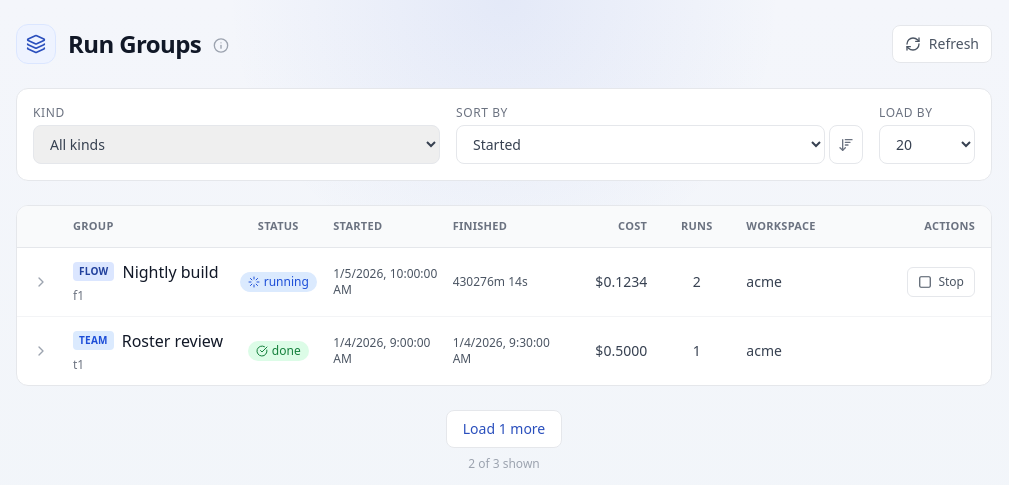
it: RunGroups load more › loads only what is left and hides the button once everything is shown
Click the button "Load 1 more" at [504, 428], box [446, 410, 562, 448]
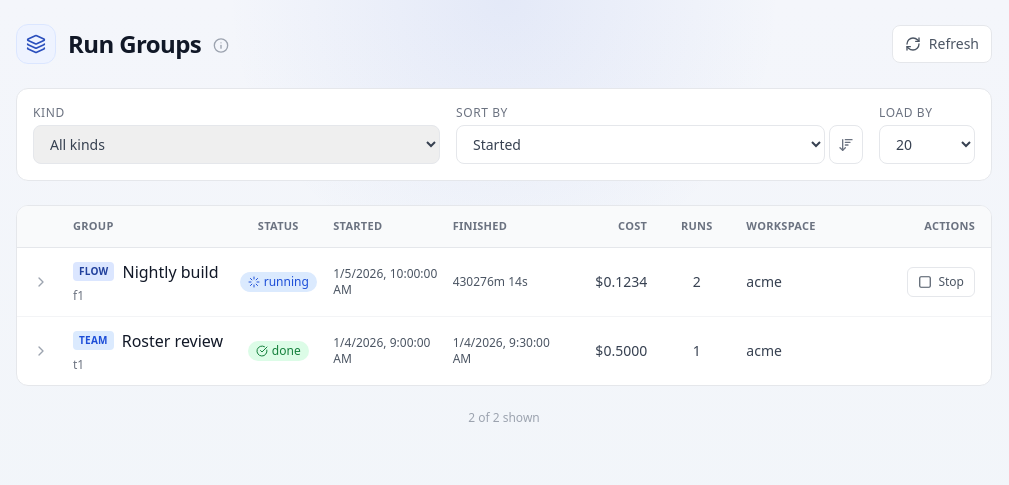
Expected: the text "2 of 2 shown" is shown, [468, 410, 540, 426]
Expected: the button "Load 1 more" is gone
